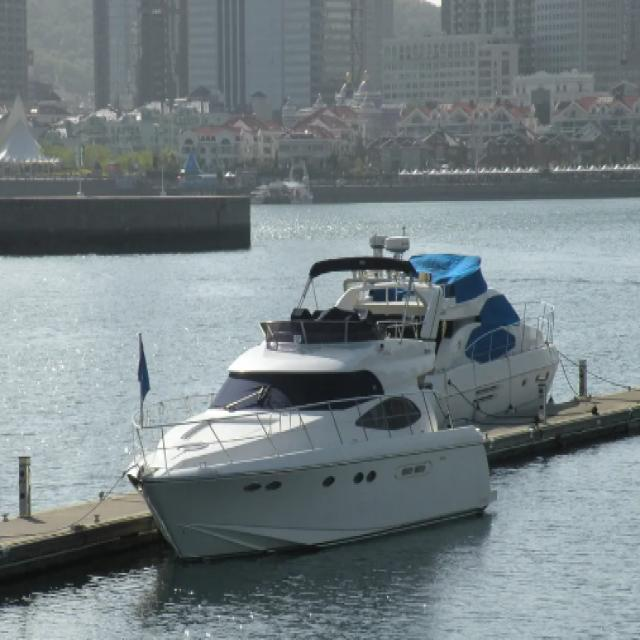houseboat: (125, 257, 490, 556), (354, 234, 557, 418)
